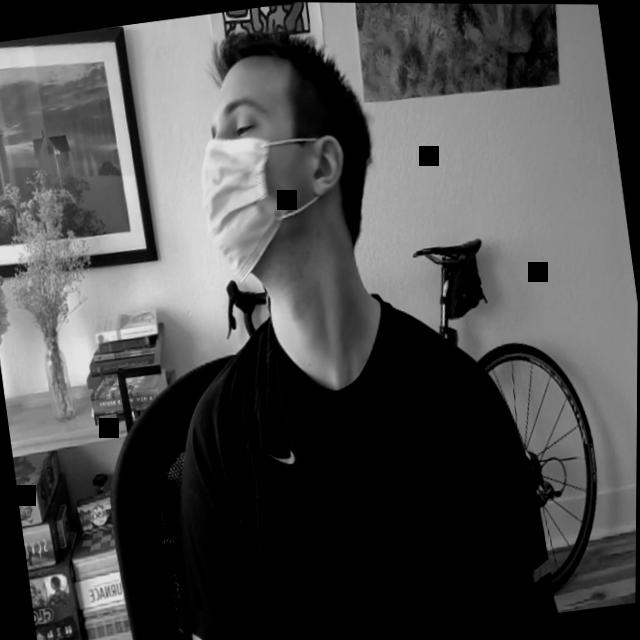Mask: (185, 49, 337, 290)
